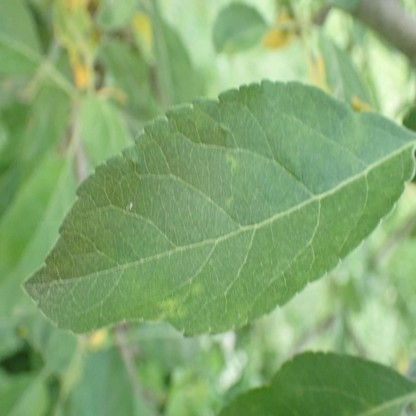powdery_mildew: (24, 270, 64, 300)
scab: (158, 285, 202, 318), (225, 151, 235, 167), (223, 196, 235, 207)
